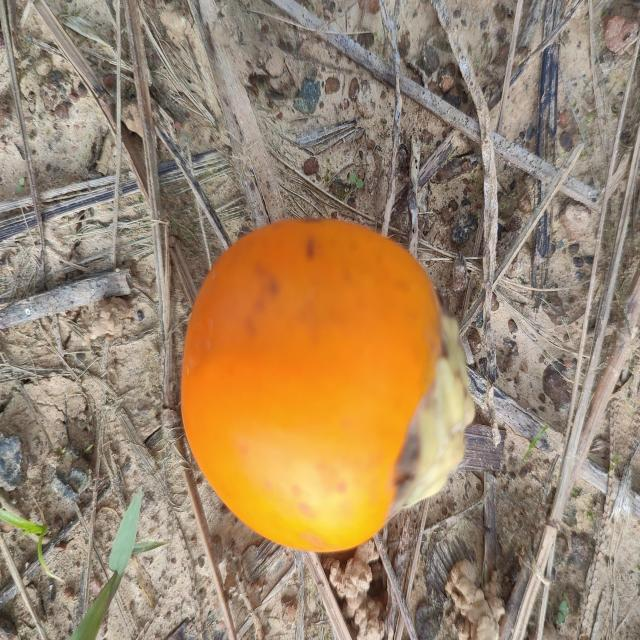good: (179, 220, 477, 556)
